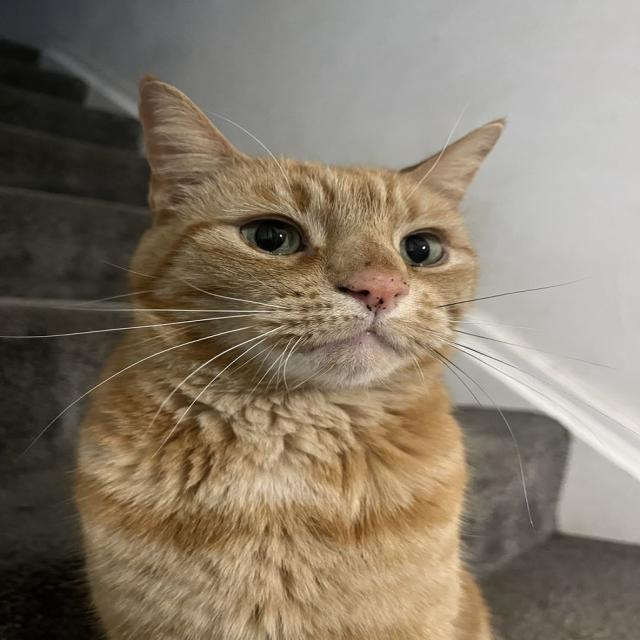sarman: (74, 76, 504, 639)
